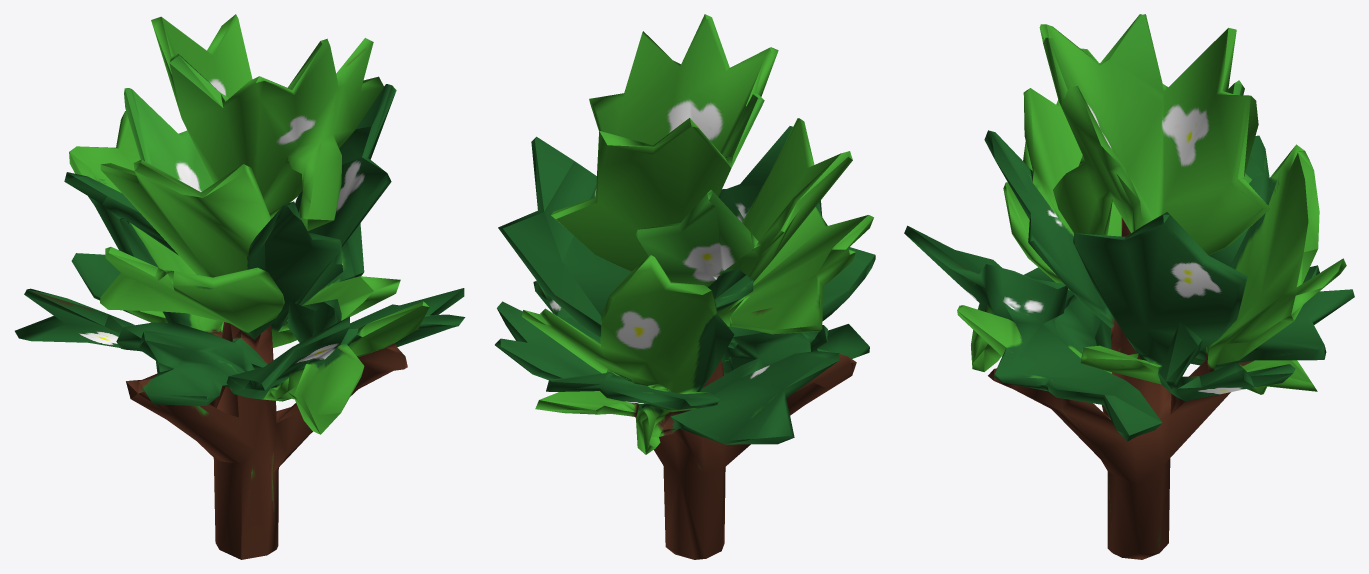
The model's file is hedgerow-shrub.glb.
The picture shows the model from 3 angles, left to right: view 1: azimuth 30°, elevation 25°; view 2: azimuth 150°, elevation 25°; view 3: azimuth 270°, elevation 25°; orthographic projection. The views are drawn at different scales.
Visible parts, largest first — view 1: geometry_0; view 2: geometry_0; view 3: geometry_0.
Boxes of the visible parts, left/top/right/bottom form: geometry_0: left=15, top=14, right=465, bottom=559; geometry_0: left=495, top=14, right=875, bottom=559; geometry_0: left=904, top=14, right=1354, bottom=559.
Bounding box in the file's own units: 0.7163 × 0.9998 × 0.7749.
1 material, 1 textured.
